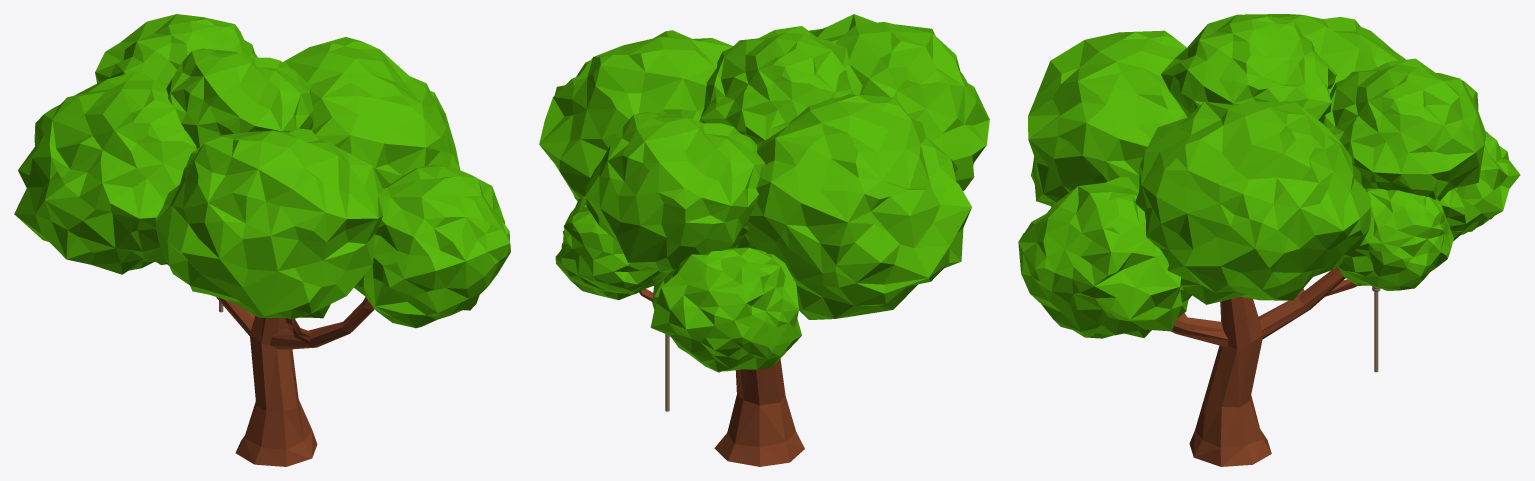
File: pinata_arbre.glb
The picture shows the model from 3 angles, left to right: view 1: azimuth 30°, elevation 25°; view 2: azimuth 150°, elevation 25°; view 3: azimuth 270°, elevation 25°; orthographic projection. The views are drawn at different scales.
Parts seen in each view (by area): view 1: Tore; view 2: Tore; view 3: Tore.
Boxes of the visible parts, left/top/right/bottom form: Tore: left=14, top=14, right=510, bottom=466; Tore: left=539, top=14, right=989, bottom=466; Tore: left=1018, top=14, right=1520, bottom=466.
Bounding box in the file's own units: 30.21 × 28.88 × 32.33.
